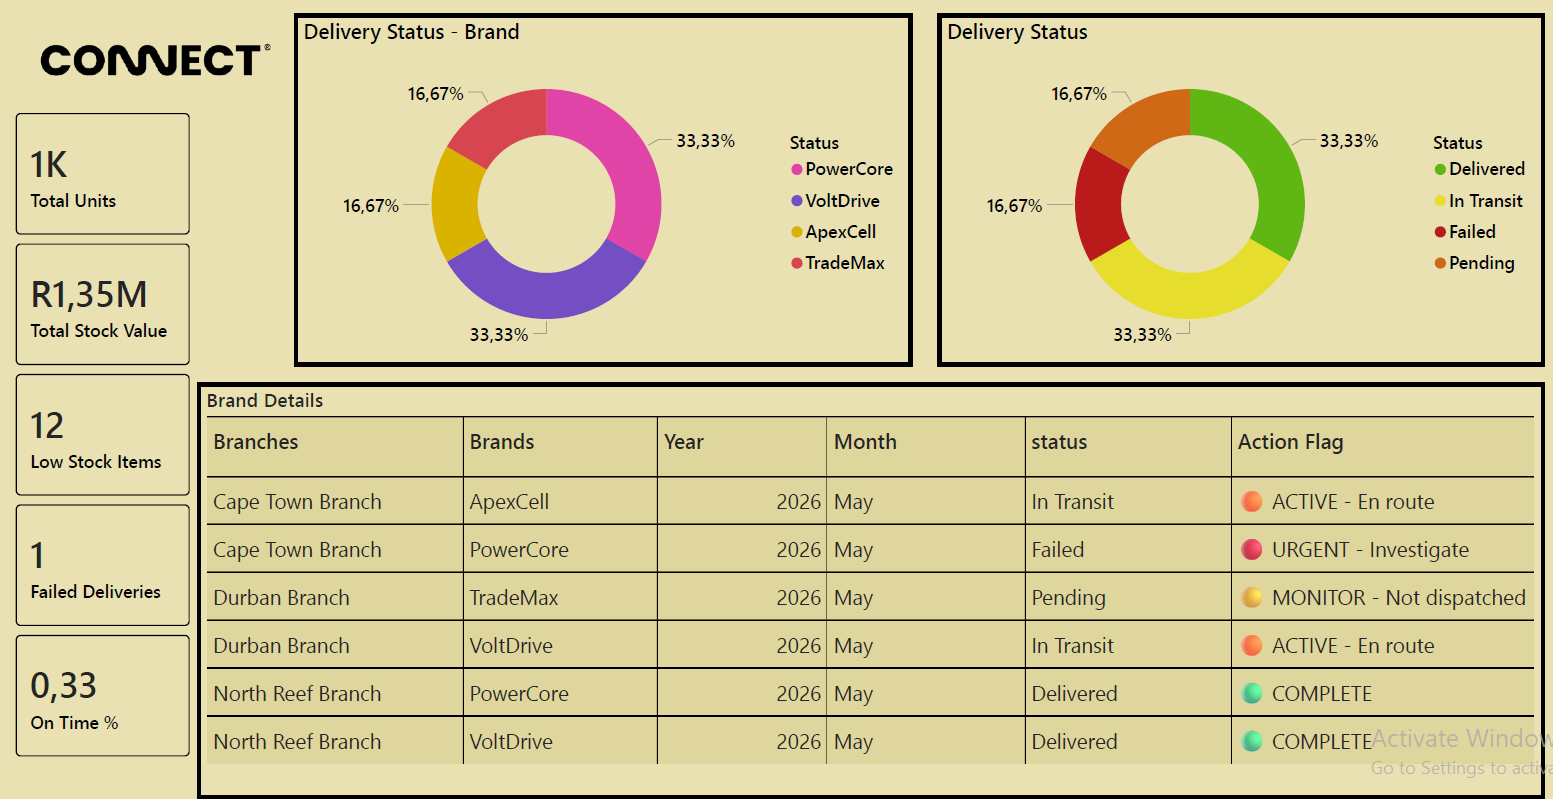

The page's visual inventory and layout, read from the dashboard file:
{"tool":"powerbi","page":{"name":"Delivery Monitor","canvas":[1398,720],"ordinal":2},"visuals":[{"type":"image","box":[0,0,266.2,118],"z":0},{"type":"donutChart","title":"Delivery Status","fields":{"Y":["CountNonNull(deliveries.status)"],"Category":["deliveries.status"]},"box":[843.8,15,544,316.2],"z":1000},{"type":"cardVisual","fields":{"Data":["KPI Measures.Total Units","KPI Measures.Total Stock Value","KPI Measures.Low Stock Items","KPI Measures.Failed Deliveries","% Measures.On Time %"]},"box":[0,86.9,190.3,613],"z":2000},{"type":"tableEx","title":"Brand Details","fields":{"Values":["branches.branch_name","products.brand","deliveries.delivery_date.Variation.Date Hierarchy.Year","deliveries.delivery_date.Variation.Date Hierarchy.Month","deliveries.status","deliveries.Action Flag"]},"box":[179.8,346.2,1208,373.2],"z":3000},{"type":"donutChart","title":"Delivery Status - Brand","fields":{"Y":["CountNonNull(deliveries.status)"],"Category":["products.brand"]},"box":[266.8,15,554.5,316.2],"z":4000}]}

Visuals, with their boxes in screenshot pixels (x1, y1, x2, y2), scaled from the page's 1398x720 canvas onto the 1553x799 screenshot:
image: (0, 0, 296, 131)
"Delivery Status" donutChart: (937, 17, 1542, 368)
cardVisual - KPI Measures.Total Units x KPI Measures.Total Stock Value: (0, 96, 211, 777)
"Brand Details" tableEx: (200, 384, 1542, 798)
"Delivery Status - Brand" donutChart: (296, 17, 912, 368)
